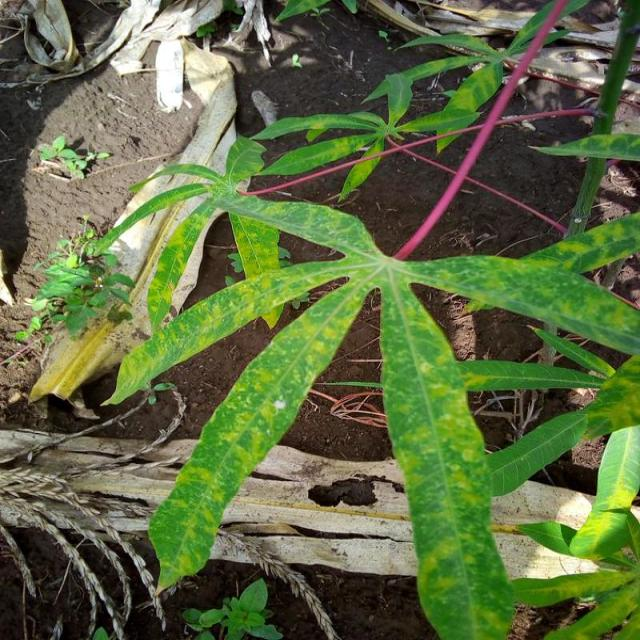cassava leaf: (101, 132, 638, 638), (27, 48, 240, 406), (378, 262, 516, 638)
